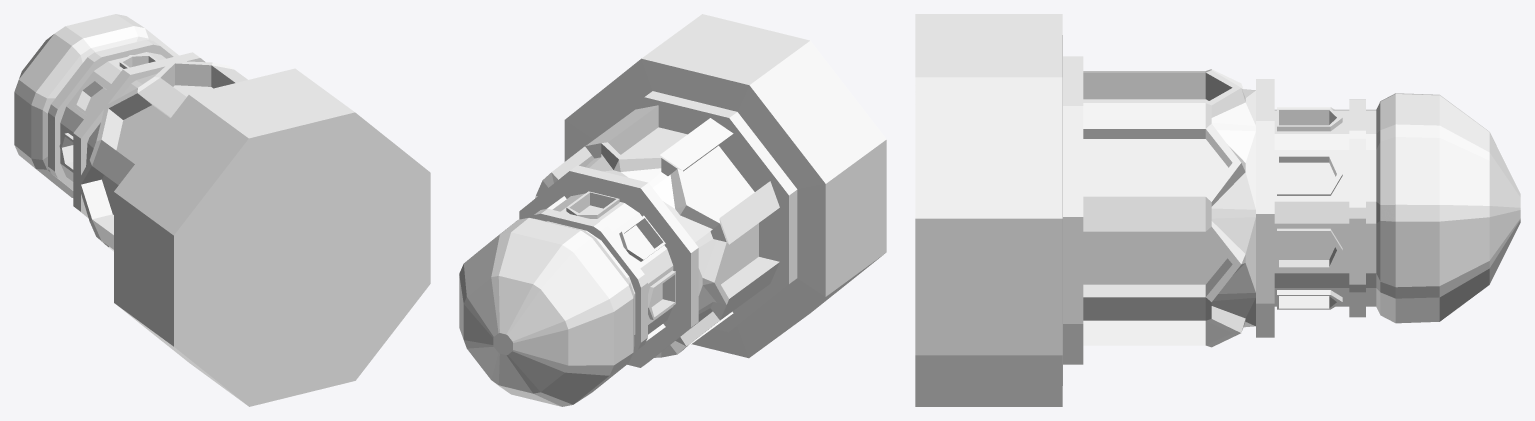
File: venice_building_4.fbx
The picture shows the model from 3 angles, left to right: view 1: azimuth 30°, elevation 25°; view 2: azimuth 150°, elevation 25°; view 3: azimuth 270°, elevation 25°; orthographic projection. The views are drawn at different scales.
Parts seen in each view (by area): view 1: Cube.278; view 2: Cube.278; view 3: Cube.278.
Part boxes in pixels (left/top/right/bottom): Cube.278: left=14, top=14, right=430, bottom=406; Cube.278: left=459, top=14, right=886, bottom=406; Cube.278: left=915, top=14, right=1520, bottom=406.
Size of the model in its own units: 1568 by 1568 by 2609.
